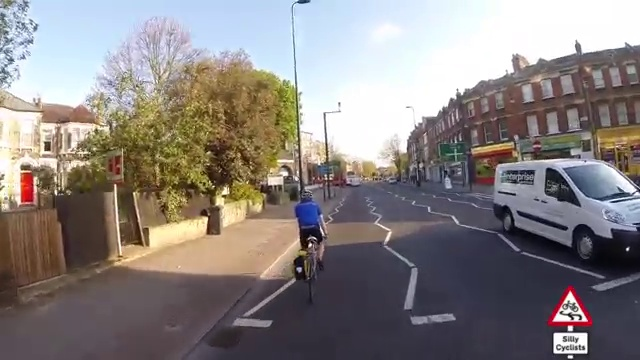cyclist_back: (294, 185, 330, 302)
